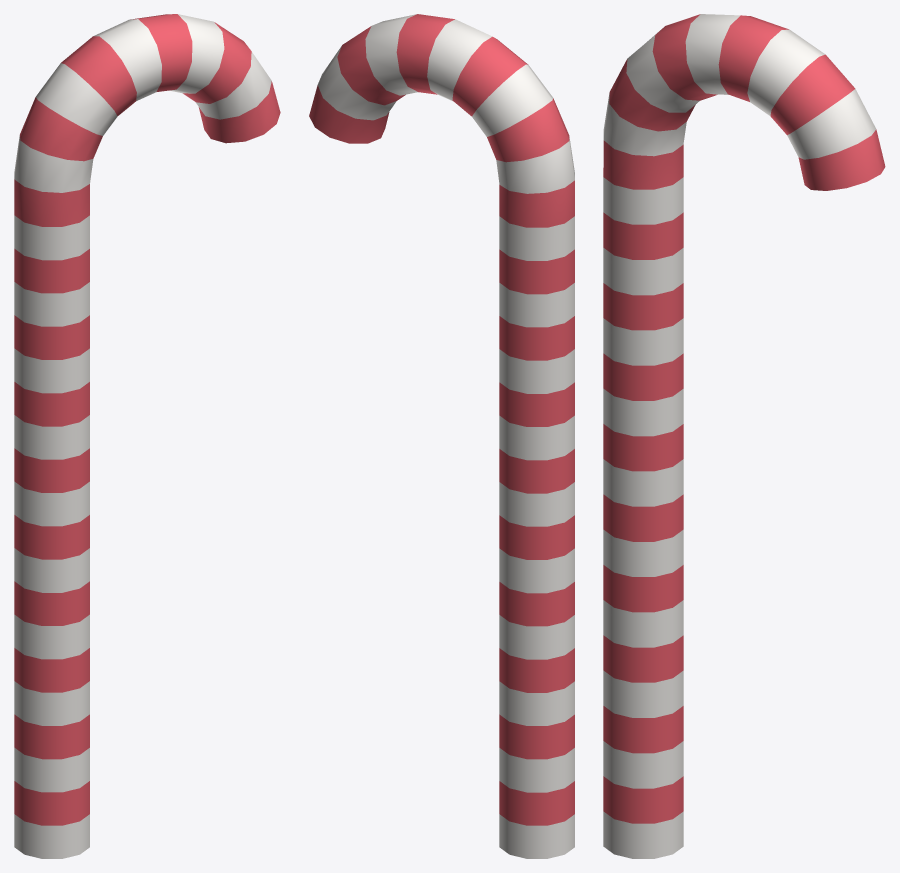
File: CandyCane_Tall.fbx
3 views of the same model, side by side, from view 1: azimuth 30°, elevation 25°; view 2: azimuth 150°, elevation 25°; view 3: azimuth 330°, elevation 25° (orthographic). The views are drawn at different scales.
Parts seen in each view (by area): view 1: CandyCane_Tall; view 2: CandyCane_Tall; view 3: CandyCane_Tall.
Boxes of the visible parts, box(x1,y1,x2,y2) form: CandyCane_Tall: box(14, 14, 280, 858); CandyCane_Tall: box(309, 14, 574, 858); CandyCane_Tall: box(603, 14, 885, 858).
Size of the model in its own units: 2.41 by 7.21 by 0.6389.
